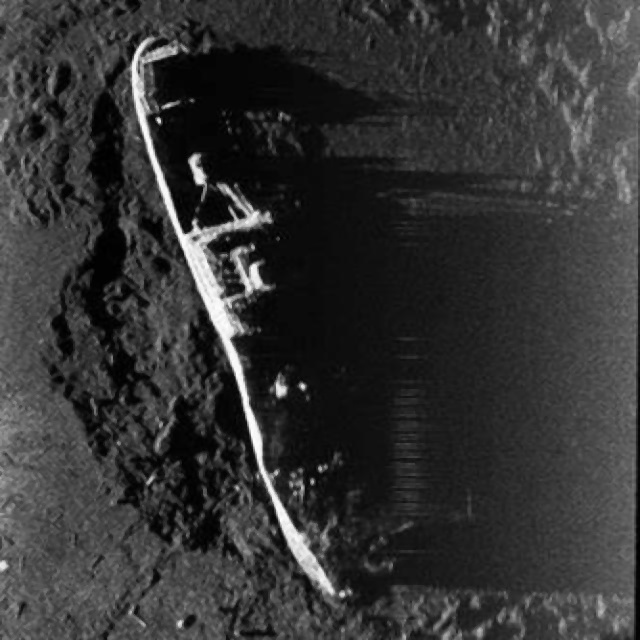Ship: (125, 26, 417, 625)
